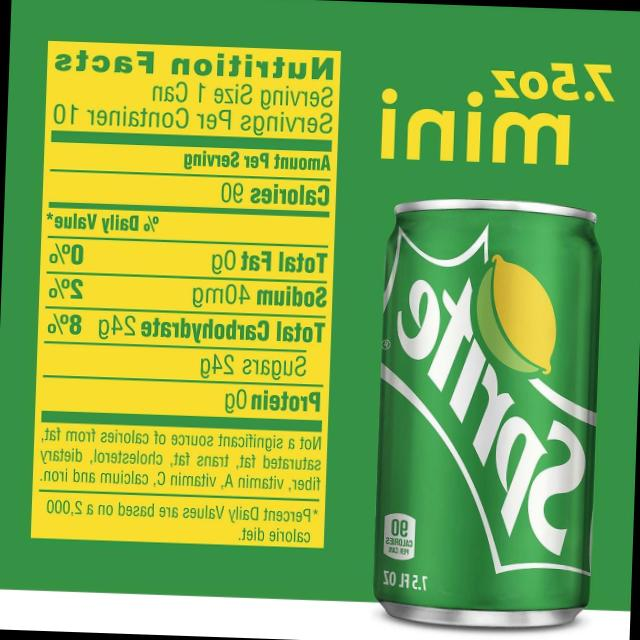sprite: (357, 191, 617, 635)
